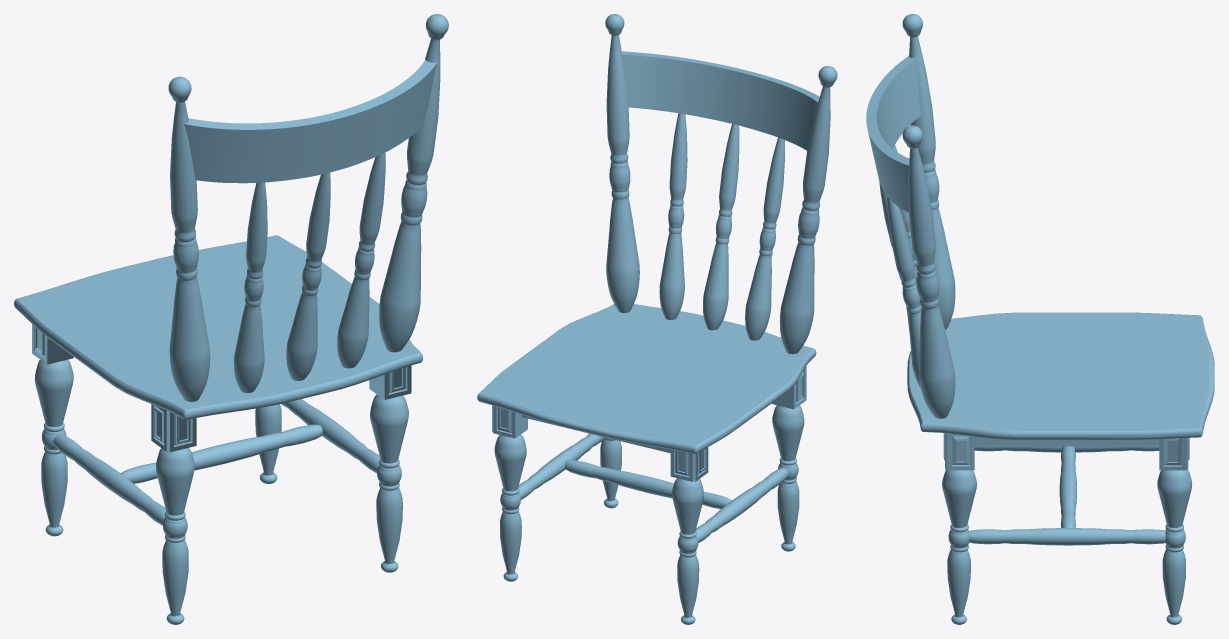
Rendered from DiningSet_Gen_1_Chair.fbx.
3 views of the same model, side by side, from view 1: azimuth 30°, elevation 25°; view 2: azimuth 150°, elevation 25°; view 3: azimuth 270°, elevation 25° (orthographic). The views are drawn at different scales.
Parts seen in each view (by area): view 1: mesh_chair; view 2: mesh_chair; view 3: mesh_chair.
Boxes of the visible parts, <box> form: mesh_chair: <box>14,14,448,624</box>; mesh_chair: <box>477,14,837,624</box>; mesh_chair: <box>866,14,1214,624</box>.
Size of the model in its own units: 57.68 by 113 by 70.6.
